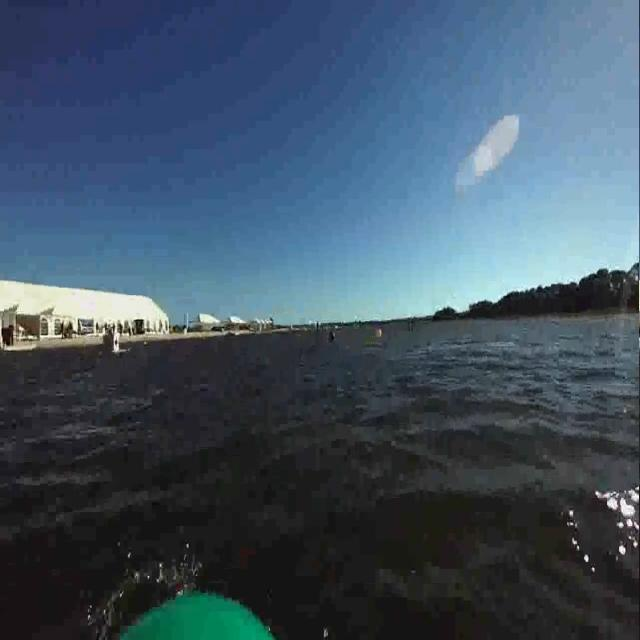blue-buoy: (329, 330, 337, 344)
green-buoy: (61, 583, 351, 640)
yellow-buoy: (375, 327, 383, 341)
